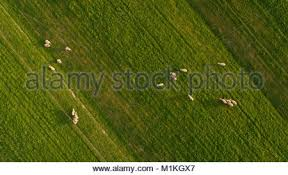sheep: (70, 112, 79, 125), (168, 72, 178, 81), (216, 97, 226, 106), (215, 61, 226, 69), (67, 106, 75, 116), (154, 83, 167, 89), (187, 94, 195, 103), (63, 45, 72, 53), (48, 65, 57, 73), (226, 99, 234, 107), (180, 68, 189, 75), (41, 42, 50, 49), (55, 59, 63, 65), (43, 39, 51, 45)
